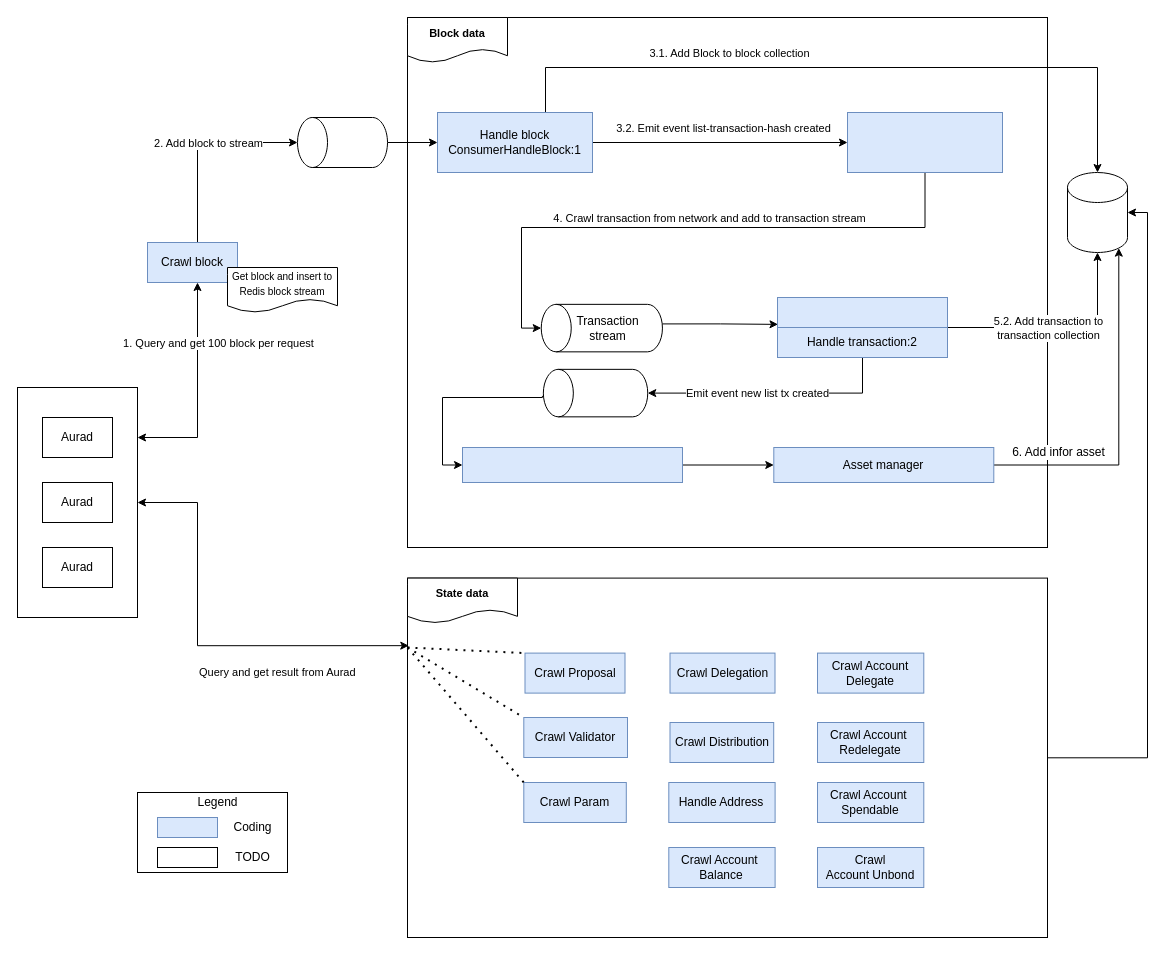
This 1173x955 diagram has some shape labels left out. The box of each missing label's shape, as (x1, y1, x2, y2) in pixels:
Asset Tx Handle: (462, 446, 682, 482)
Block stream: (296, 116, 388, 168)
Crawl transaction: (846, 112, 1002, 172)
Handle transaction:1: (776, 296, 948, 328)
Mongo DB: (1066, 172, 1128, 252)
Pub-Sub: (542, 368, 648, 417)
